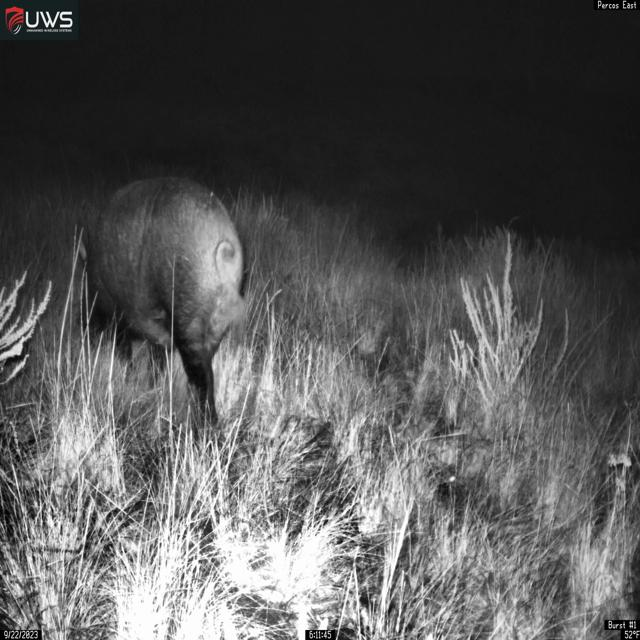pig: (74, 174, 248, 434)
